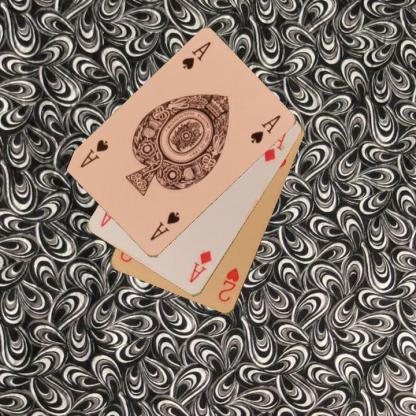2h: (216, 265, 240, 304)
Ad: (186, 248, 214, 285)
As: (147, 209, 181, 243), (179, 39, 213, 71)
